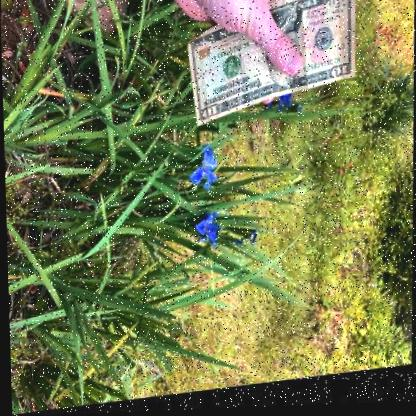ten-front: (186, 0, 355, 132)
